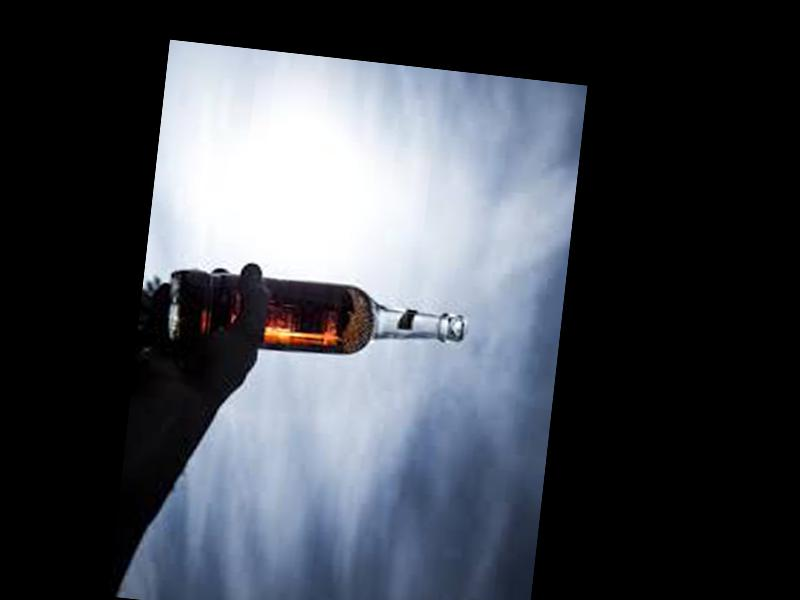Beer: (168, 270, 468, 371)
